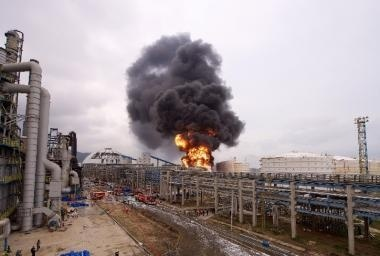fire: (175, 131, 212, 169)
